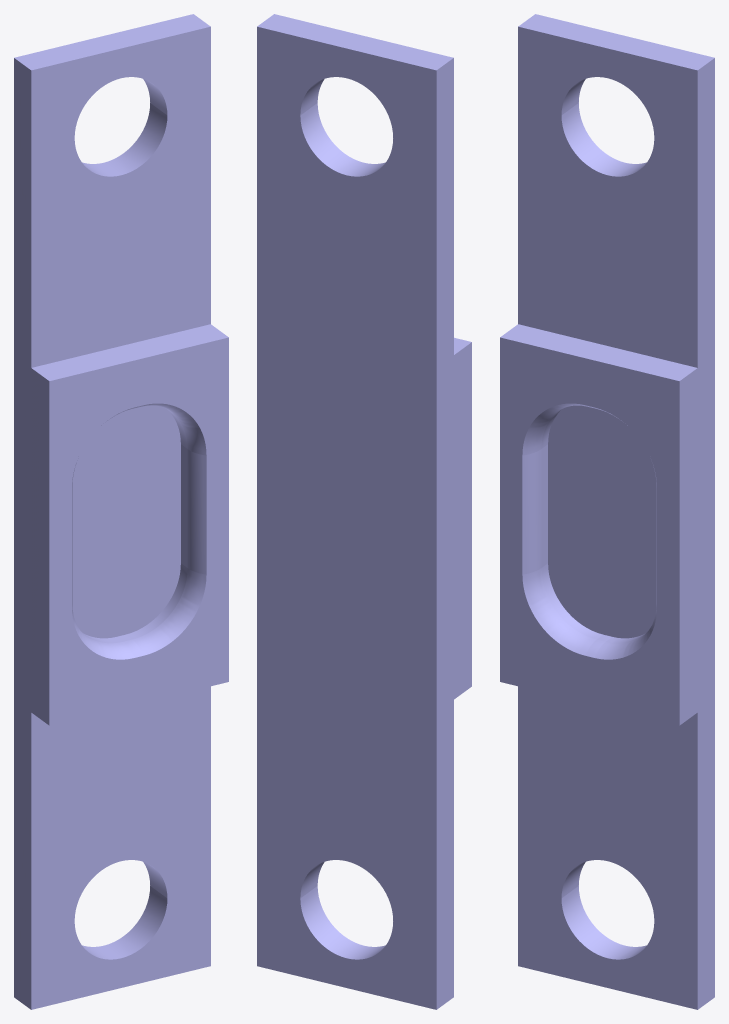
The model's file is button_clip.glb.
The picture shows the model from 3 angles, left to right: view 1: azimuth 30°, elevation 25°; view 2: azimuth 150°, elevation 25°; view 3: azimuth 330°, elevation 25°; orthographic projection.
Visible parts, largest first — view 1: BUTTON__LAST2; view 2: BUTTON__LAST2; view 3: BUTTON__LAST2.
Part boxes in pixels (<box>): BUTTON__LAST2: <box>14,14,228,1009</box>; BUTTON__LAST2: <box>257,14,471,1009</box>; BUTTON__LAST2: <box>500,14,714,1009</box>.
Bounding box in the file's own units: 0.012 × 0.06 × 0.0041.
